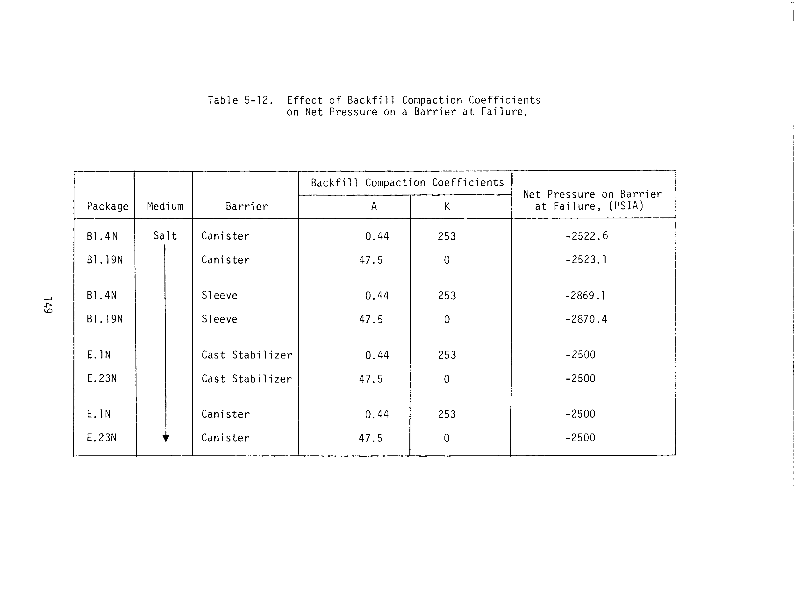table: (75, 171, 676, 458)
